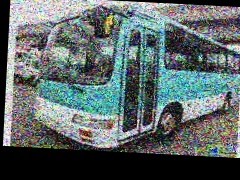bus: (26, 0, 240, 153)
